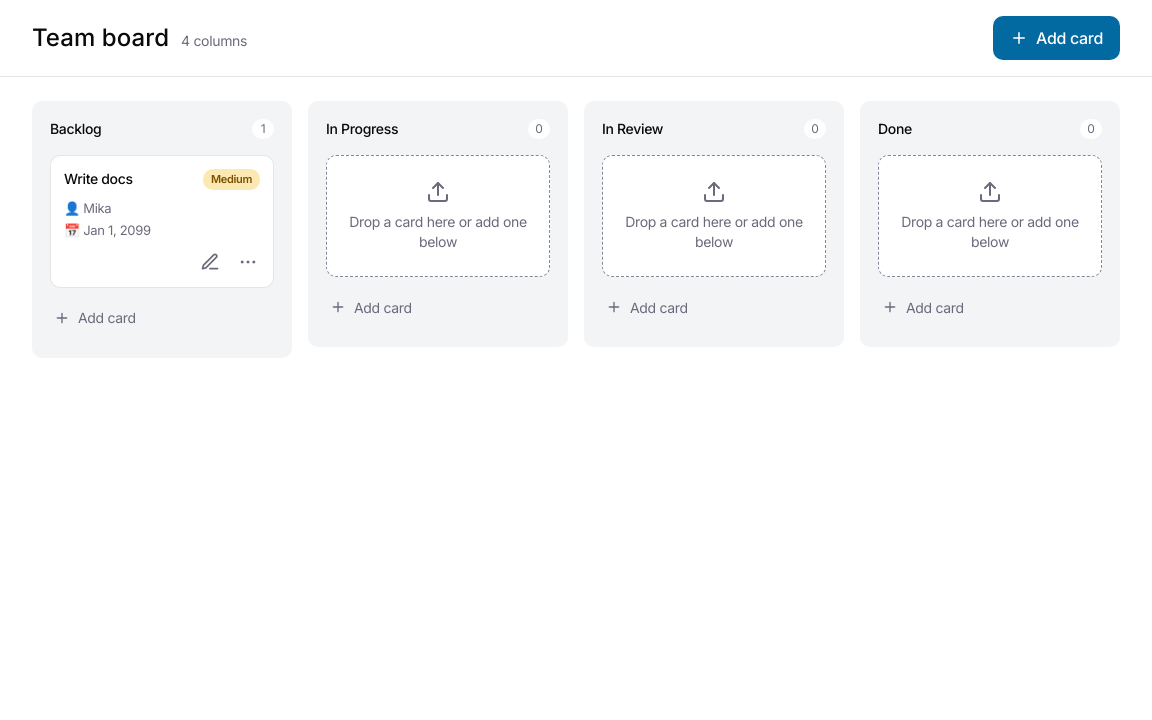
names, roles and structure › names the icon buttons and the ⋯ menu with the card title
Check: the button named "Edit Write docs" is shown, box [192,244,228,280]
Click the button named "More actions for Write docs" at (248, 262), box [230,244,266,280]
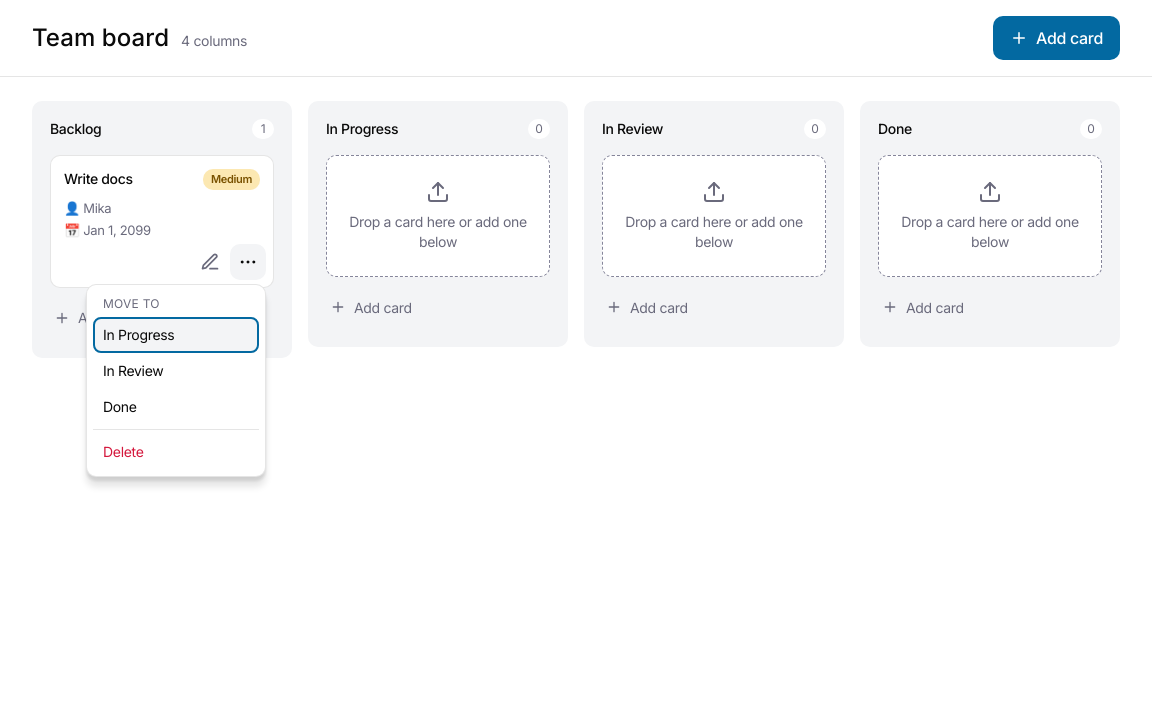
Check: the button named "More actions for Write docs" is expanded, box [230,244,266,280]
Check: the menu named "Actions for Write docs" is shown, box [86,284,266,476]
Check: the element "Move to" is shown, box [93,290,259,424]
